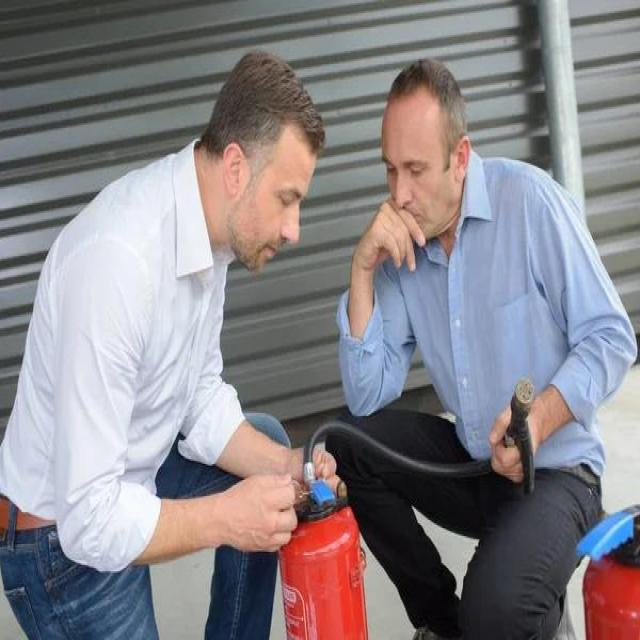fire_extinguisher: (272, 370, 542, 638), (573, 494, 639, 638)
